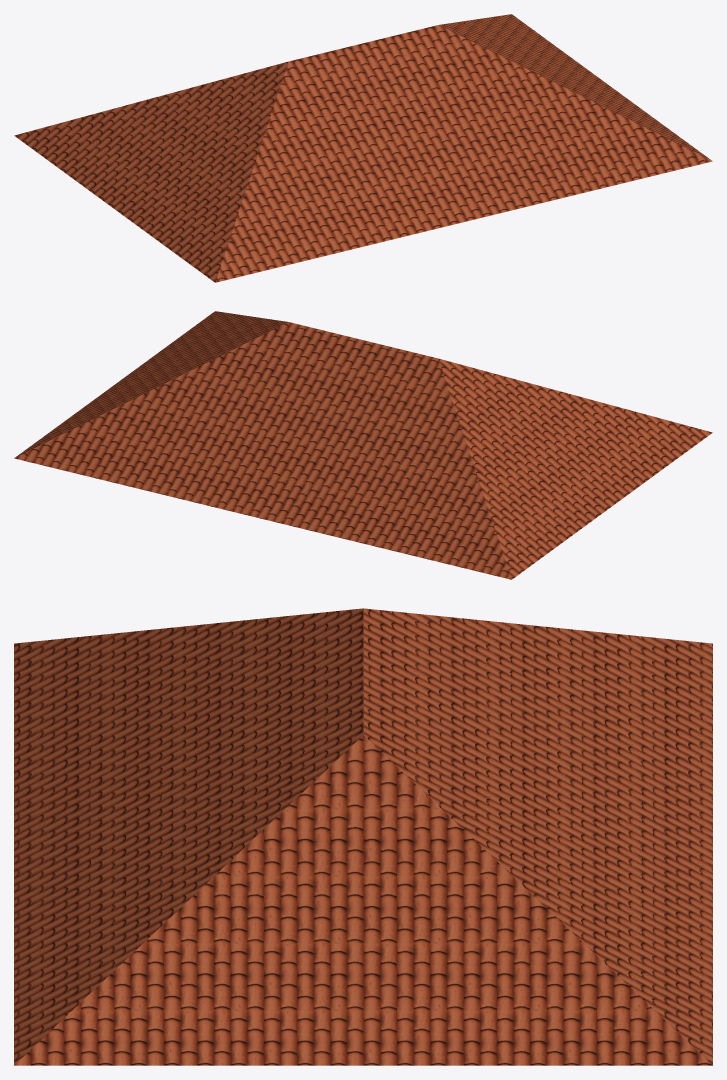
The model's file is telhado33a.dae.
The picture shows the model from 3 angles, top to bottom: view 1: azimuth 30°, elevation 25°; view 2: azimuth 150°, elevation 25°; view 3: azimuth 270°, elevation 25°; orthographic projection. The views are drawn at different scales.
Visible parts, largest first — view 1: SketchUp; view 2: SketchUp; view 3: SketchUp.
Boxes of the visible parts, left/top/right/bottom form: SketchUp: left=14, top=14, right=712, bottom=282; SketchUp: left=14, top=311, right=712, bottom=579; SketchUp: left=14, top=608, right=712, bottom=1065.
Bounding box in the file's own units: 394 × 276 × 79.56.
2 materials, 1 textured.
